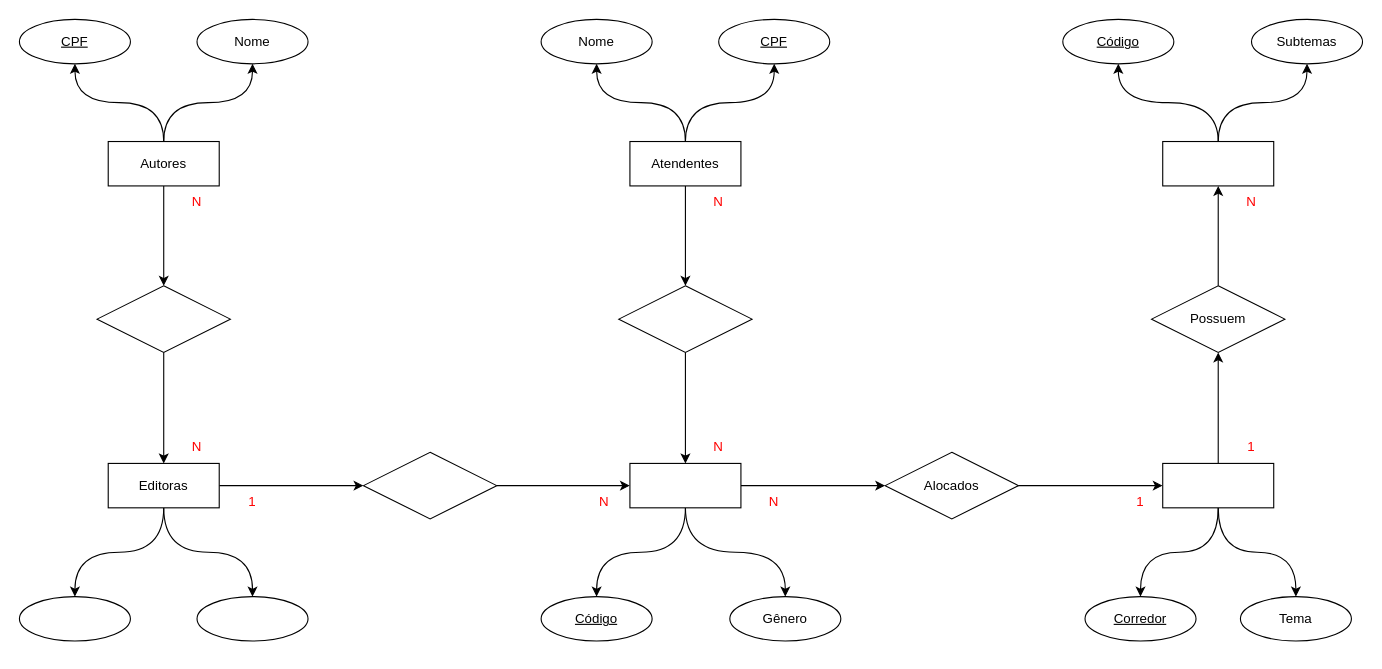
The diagram is 1382 pixels wide and 669 high, and some of its shapes have lost their labels. Each missing label, with the box of its shape:
Categorias: (1162, 140, 1274, 186)
CNPJ: (196, 596, 308, 641)
Estante: (1162, 462, 1274, 508)
Livros: (629, 462, 741, 508)
Local: (18, 596, 130, 641)
Organizam: (618, 285, 752, 352)
Publicam: (362, 451, 497, 519)
Vendem: (96, 285, 230, 352)
